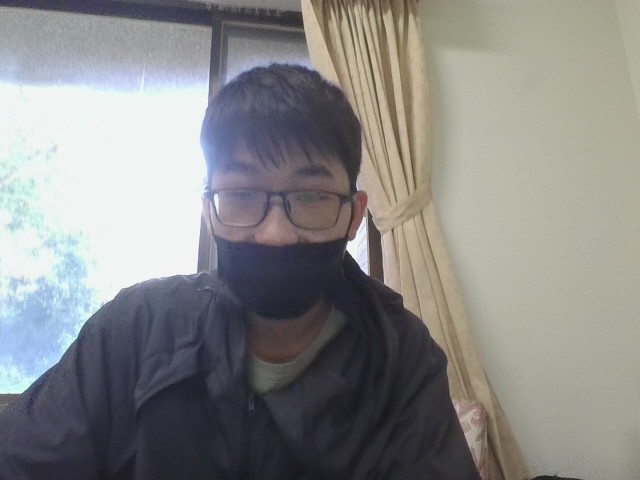No_Helmet: (192, 55, 372, 252)
person: (0, 45, 544, 479)
